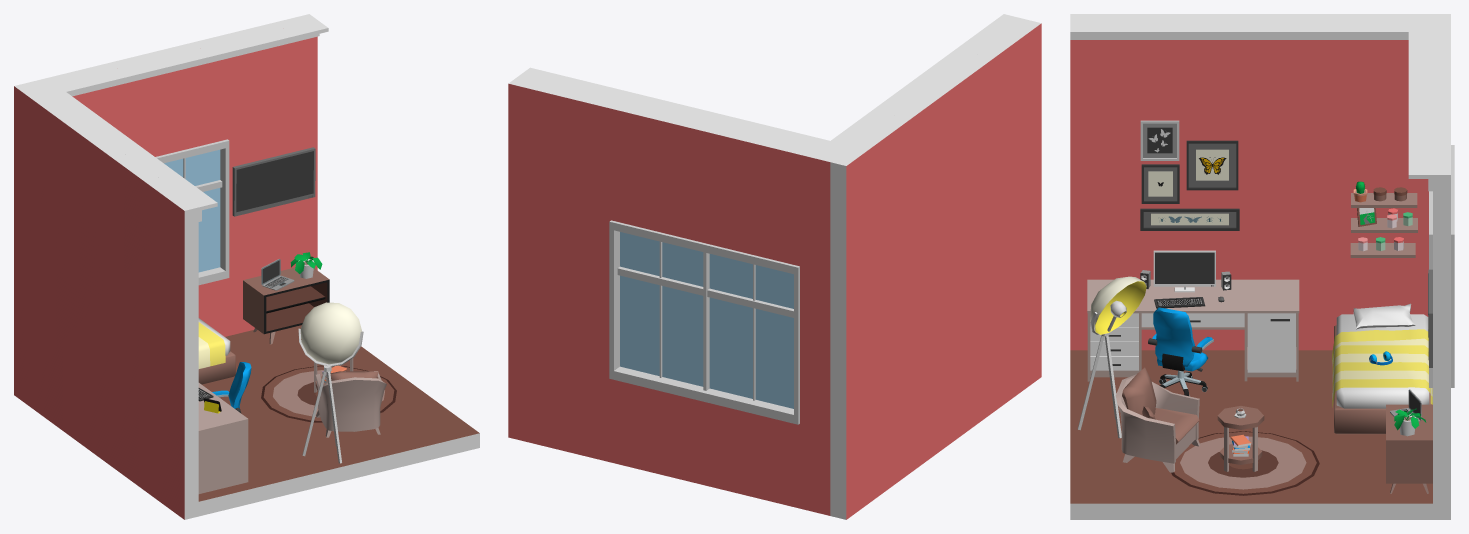
The model's file is room_24.glb.
The picture shows the model from 3 angles, left to right: view 1: azimuth 30°, elevation 25°; view 2: azimuth 150°, elevation 25°; view 3: azimuth 270°, elevation 25°; orthographic projection. The views are drawn at different scales.
Parts seen in each view (by area): view 1: Walls_133.014, Walls_009.011, Walls_133.013, Walls_133.017, window_006.001, electronics_034.006, office_table_014.001, Walls_033.009, lamp_015.001, shelf_066.002, armchair_017.001, Walls_033.008 (+7 smaller); view 2: Walls_133.014, Walls_133.013, window_006.001, Walls_133.017, Walls_133.016, Walls_133.015, Walls_033.009, Walls_033.008; view 3: Walls_133.014, Walls_009.011, office_table_014.001, bed_011.001, Walls_133.013, carpet_003.005, armchair_017.001, Walls_033.008, Walls_033.009, office_chair_005.002, shelf_066.002, lamp_015.001 (+15 smaller).
Part boxes in pixels (bbox=[...]): Walls_133.014: bbox=[14, 82, 198, 519]; Walls_009.011: bbox=[198, 325, 479, 516]; Walls_133.013: bbox=[218, 14, 317, 336]; Walls_133.017: bbox=[56, 36, 225, 156]; window_006.001: bbox=[155, 139, 229, 285]; electronics_034.006: bbox=[232, 147, 315, 216]; office_table_014.001: bbox=[198, 383, 248, 493]; Walls_033.009: bbox=[36, 20, 328, 96]; lamp_015.001: bbox=[298, 302, 363, 463]; shelf_066.002: bbox=[243, 267, 329, 344]; armchair_017.001: bbox=[315, 371, 386, 437]; Walls_033.008: bbox=[47, 92, 217, 210]; Walls_133.014: bbox=[830, 19, 1041, 519]; Walls_133.013: bbox=[508, 77, 621, 462]; window_006.001: bbox=[609, 220, 799, 424]; Walls_133.017: bbox=[613, 102, 806, 265]; Walls_133.016: bbox=[613, 379, 797, 507]; Walls_133.015: bbox=[798, 147, 839, 515]; Walls_033.009: bbox=[518, 67, 851, 155]; Walls_033.008: bbox=[831, 14, 1024, 145]; Walls_133.014: bbox=[1070, 14, 1450, 350]; Walls_009.011: bbox=[1070, 350, 1432, 519]; office_table_014.001: bbox=[1087, 279, 1299, 381]; bed_011.001: bbox=[1332, 303, 1432, 434]; Walls_133.013: bbox=[1433, 125, 1450, 519]; carpet_003.005: bbox=[1171, 431, 1319, 495]; armchair_017.001: bbox=[1115, 367, 1199, 472]; Walls_033.008: bbox=[1070, 21, 1408, 35]; Walls_033.009: bbox=[1408, 21, 1432, 178]; office_chair_005.002: bbox=[1148, 307, 1213, 396]; shelf_066.002: bbox=[1386, 404, 1432, 493]; lamp_015.001: bbox=[1077, 276, 1146, 438].
Bounding box in the file's own units: 4.2 × 4.2 × 4.24.
Materials: 1 (1 with a texture image).
